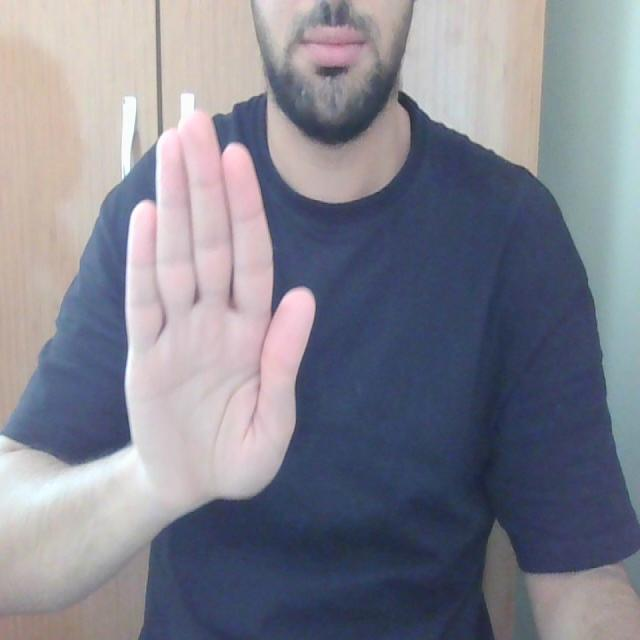Dur: (108, 86, 330, 510)
